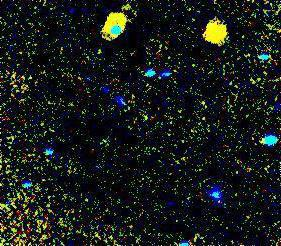star: (199, 20, 229, 50)
